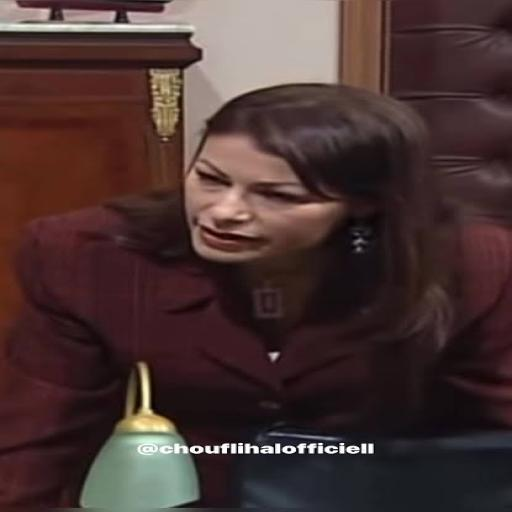zeineb: (184, 131, 370, 279)
